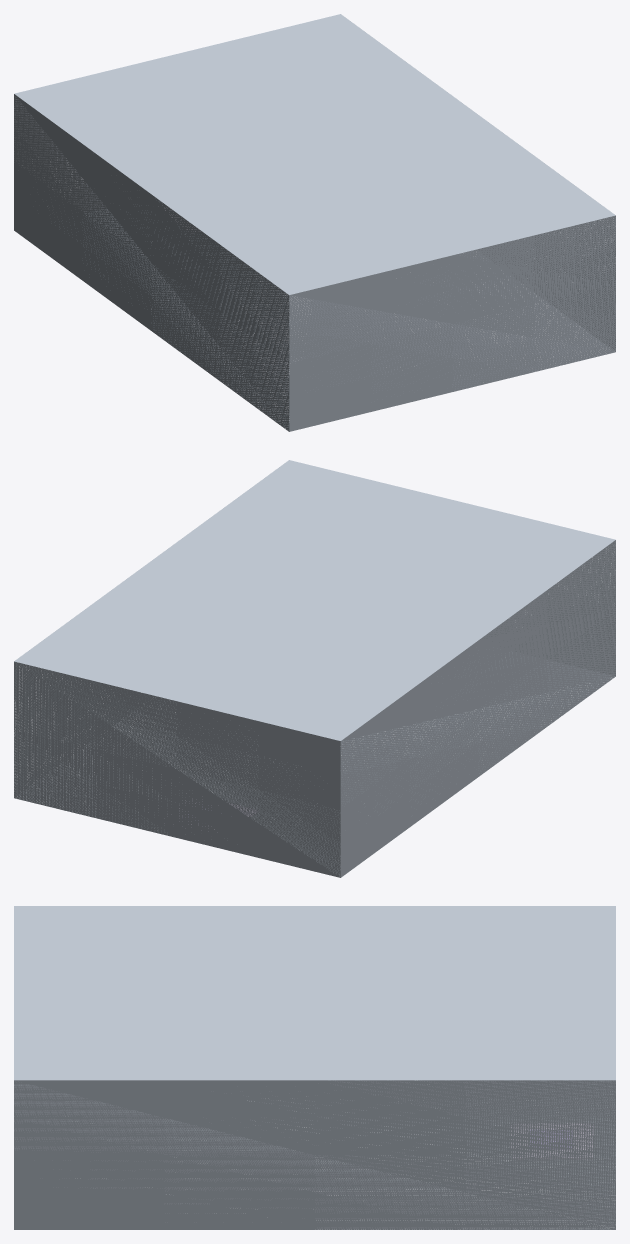
Rendered from lvl1_room.obj.
3 renders of one model, top to bottom at view 1: azimuth 30°, elevation 25°; view 2: azimuth 150°, elevation 25°; view 3: azimuth 270°, elevation 25°, orthographic. The views are drawn at different scales.
Parts seen in each view (by area): view 1: Cube; view 2: Cube; view 3: Cube, Cube.016_Cube.031.
Part boxes in pixels (x1,y1,x2,y2): Cube: (14, 14, 615, 431); Cube: (14, 460, 615, 877); Cube: (14, 906, 615, 1229); Cube.016_Cube.031: (511, 1123, 593, 1159).
Size of the model in its own units: 10 by 4.04 by 14.59.
5 materials, 5 textured.
